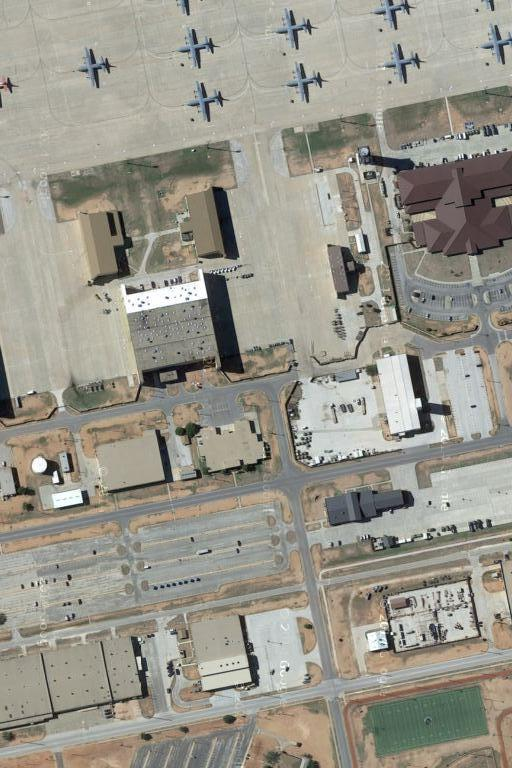C-130: (280, 60, 328, 105), (73, 45, 119, 91), (273, 8, 322, 51), (173, 24, 218, 70), (379, 39, 423, 86), (183, 81, 229, 124), (369, 1, 414, 36), (479, 22, 510, 67)
